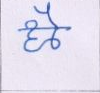ai_matra: (34, 4, 59, 26)
